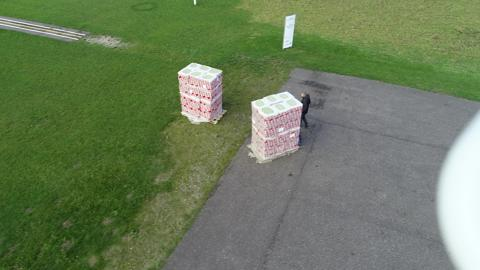RockwoolPallet: (175, 61, 225, 121)
